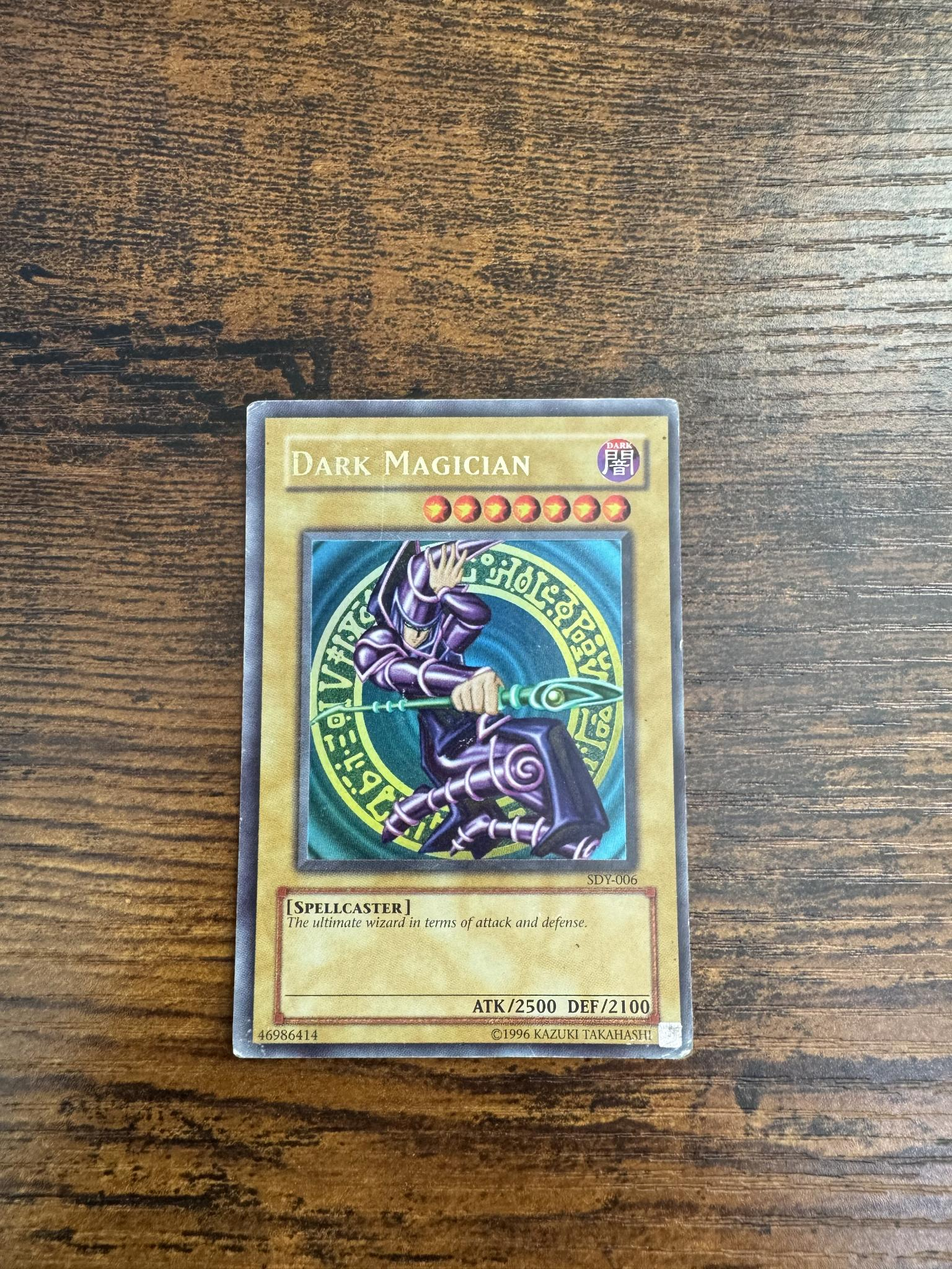card-2UtV: (232, 398, 693, 1059)
